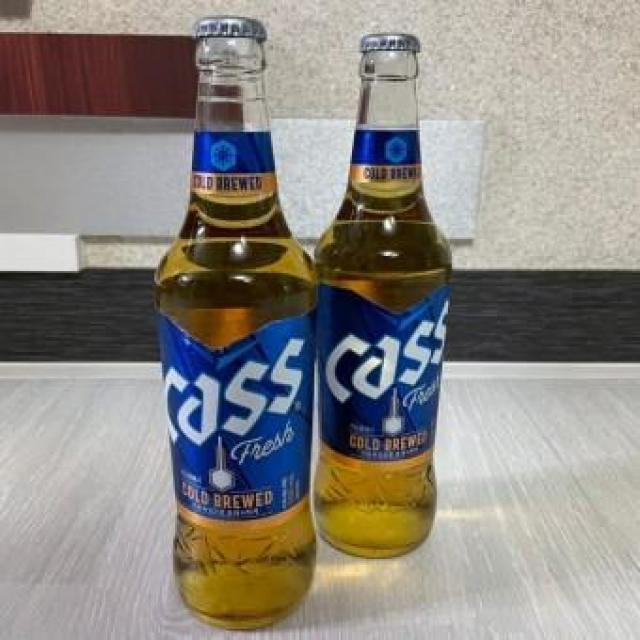beer-bottle: (152, 11, 320, 640), (310, 26, 476, 558)
